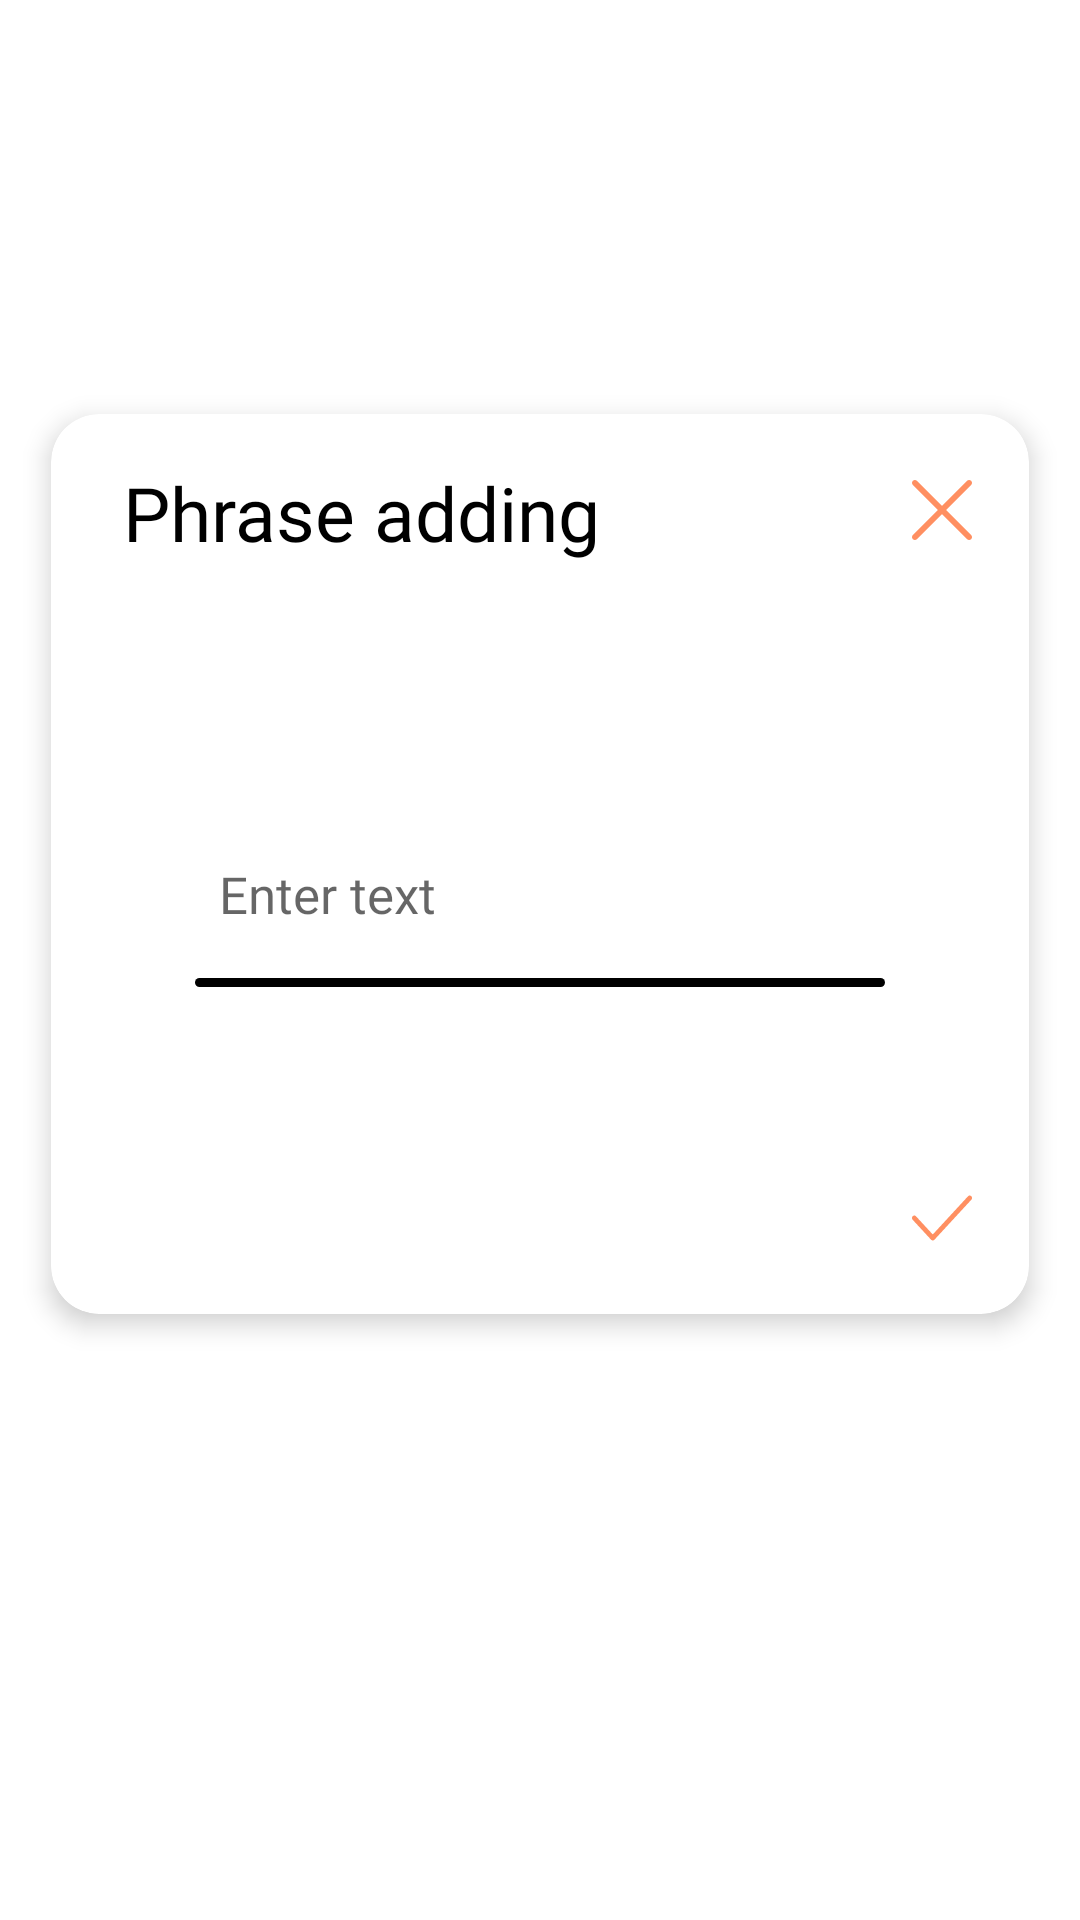

Named icons in this screenshot (1080 × 1920) and their bounding boxes, BBox(x1, y1, x2, y2):
Discard: BBox(912, 480, 972, 540)
Submit: BBox(912, 1195, 972, 1241)
